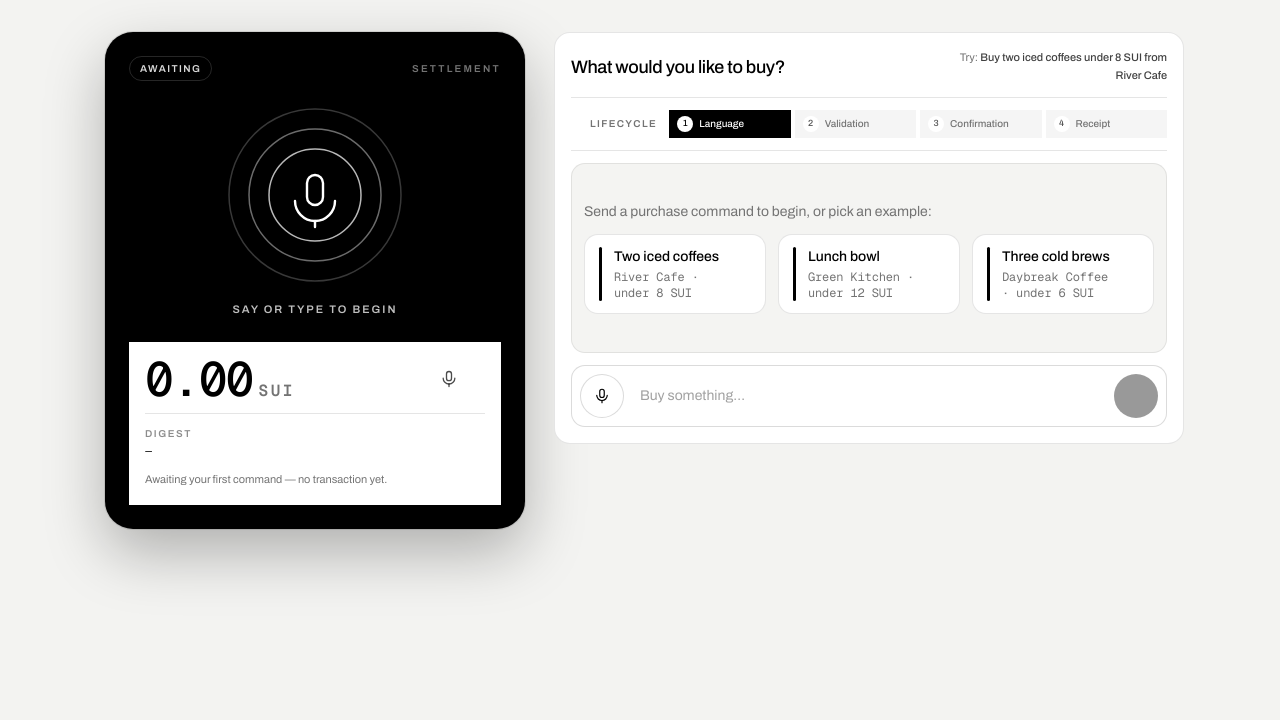
Test: CommerceChat — error recovery › renders an error message with a retry button on a fetch failure
Type "Buy two iced coffees under 8 SUI from River Cafe" into the text box at [869, 396], box top-left (632, 374), bottom-right (1106, 418)
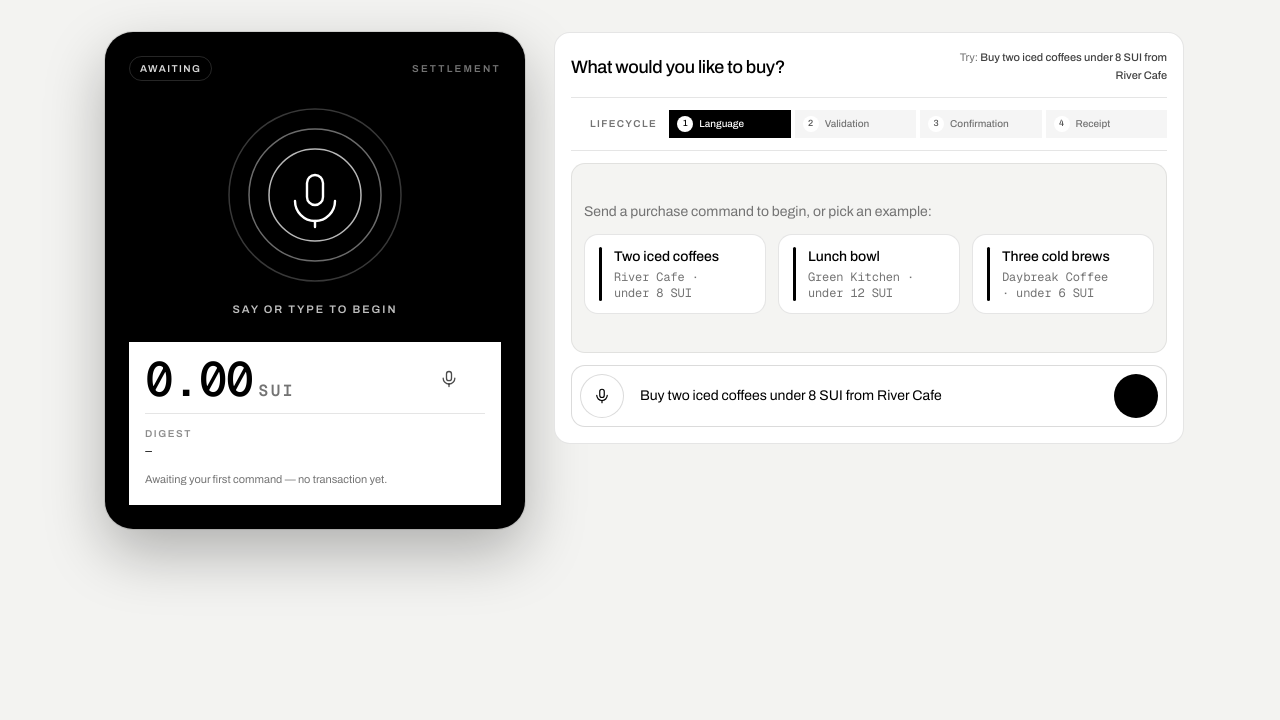
Click the button named "send" at [1136, 396], box top-left (1114, 374), bottom-right (1158, 418)
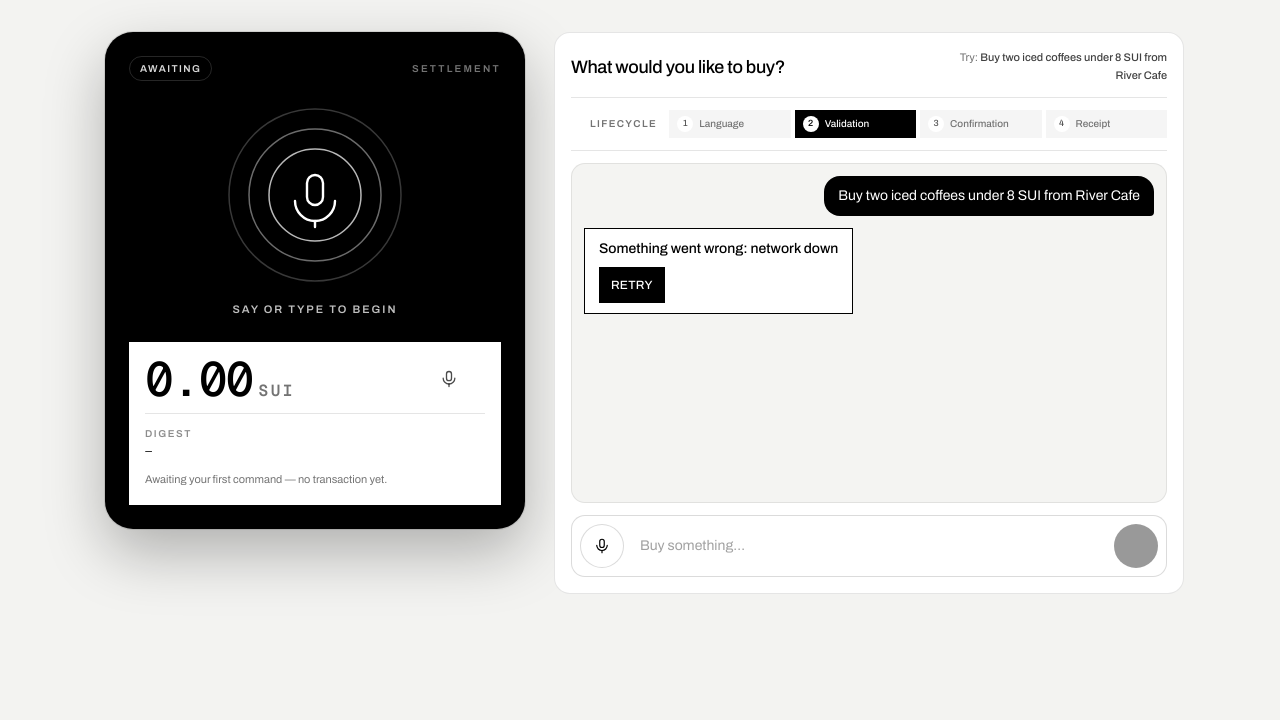
Check: the message shows "network down", box top-left (750, 241), bottom-right (838, 256)
Check: the button "Retry" is shown
Click the button "Retry" at [632, 285], box top-left (599, 267), bottom-right (665, 303)
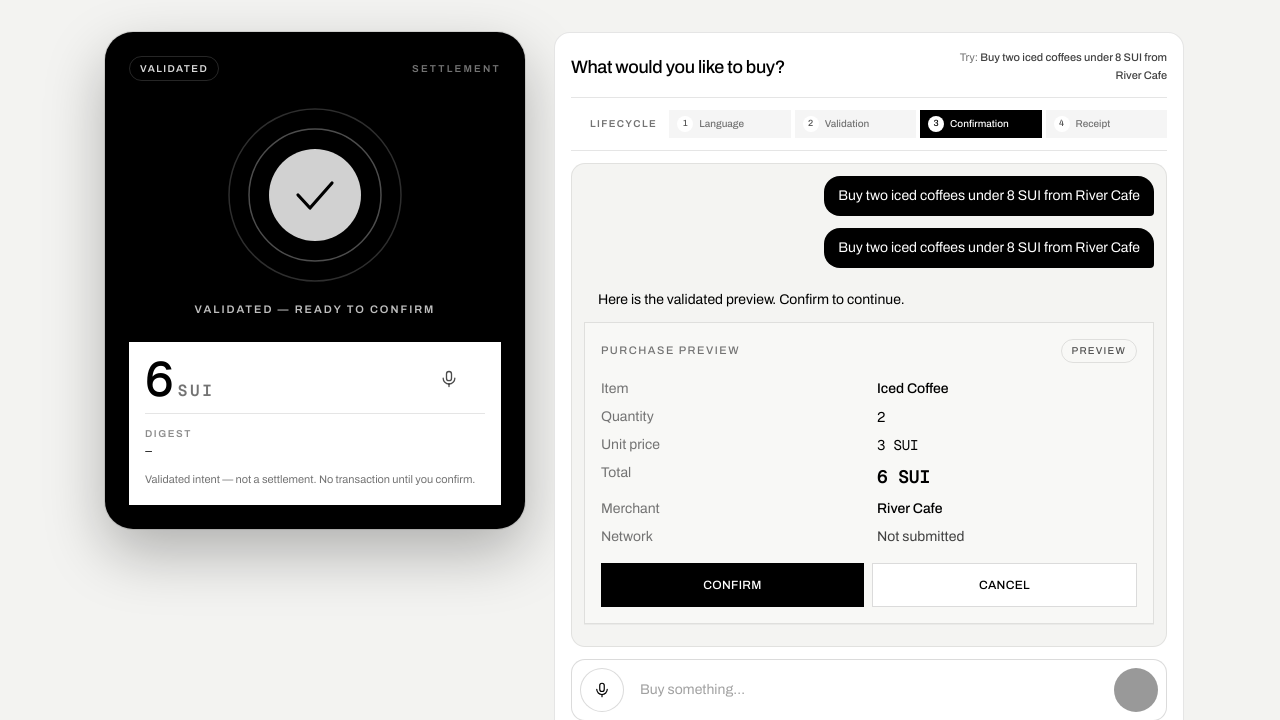
Check: the text "Iced Coffee" is shown, box top-left (877, 381), bottom-right (949, 396)
